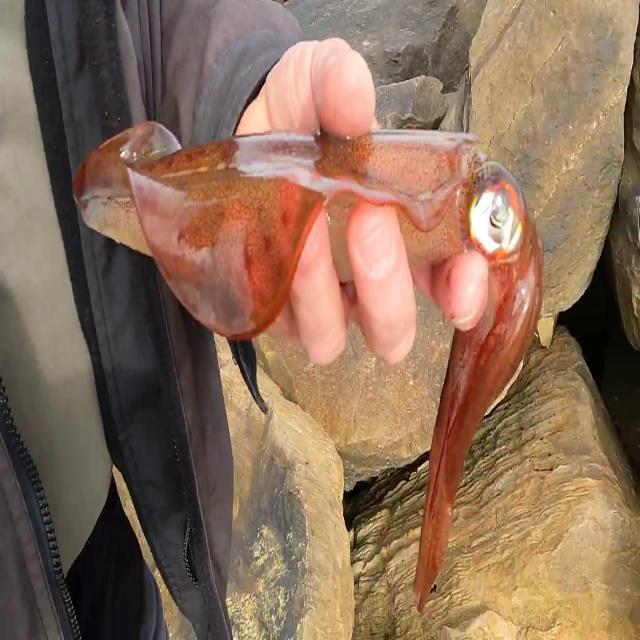SQUID: (52, 100, 570, 618)
